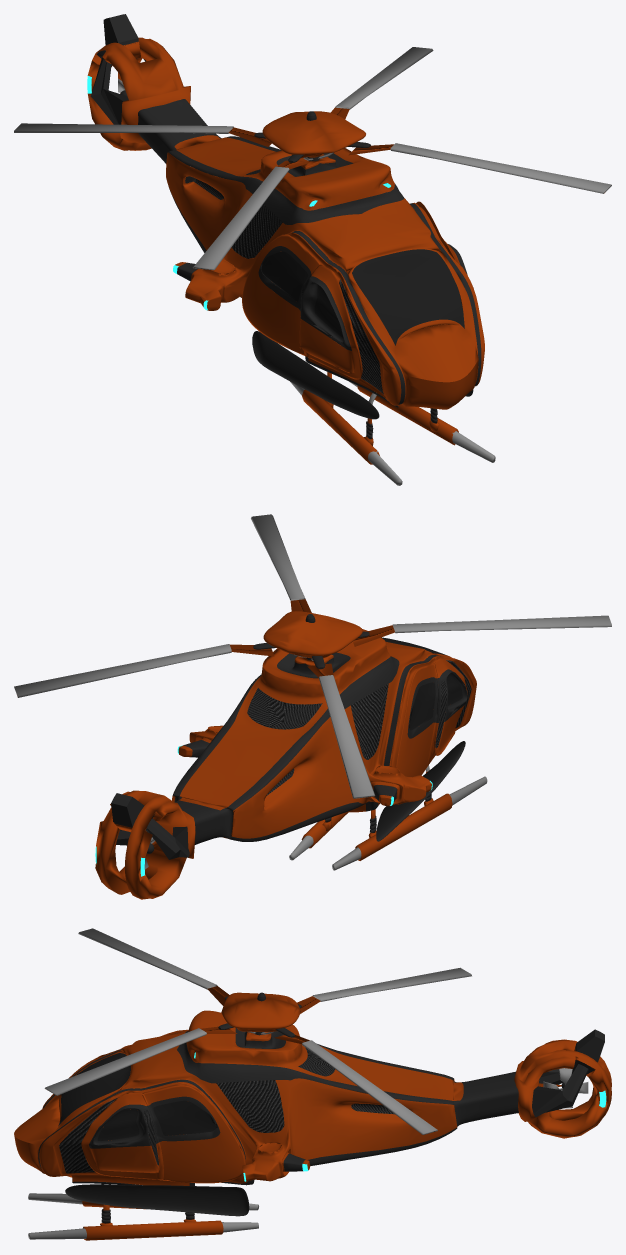
Rendered from animated_helicopter_low.glb.
The picture shows the model from 3 angles, top to bottom: view 1: azimuth 30°, elevation 25°; view 2: azimuth 150°, elevation 25°; view 3: azimuth 270°, elevation 25°; orthographic projection. The views are drawn at different scales.
Visible parts, largest first — view 1: chasis_6, main_rotor__0, rear stabolizer_2, doors.001_11, doors.003_13, landing_gear_5, fin_10; view 2: chasis_6, main_rotor__0, rear stabolizer_2, doors.001_11, landing_gear_5, doors.003_13, fin_10; view 3: chasis_6, main_rotor__0, doors.005_15, rear stabolizer_2, doors.004_14, landing_gear_5, fin_10.
Boxes of the visible parts, <box> form: chasis_6: <box>138,99,484,419</box>; main_rotor__0: <box>14,47,611,270</box>; rear stabolizer_2: <box>87,37,190,150</box>; doors.001_11: <box>242,234,320,355</box>; doors.003_13: <box>299,265,362,379</box>; landing_gear_5: <box>290,372,495,485</box>; fin_10: <box>90,14,145,124</box>; chasis_6: <box>172,611,476,844</box>; main_rotor__0: <box>14,514,611,798</box>; rear stabolizer_2: <box>95,790,195,899</box>; doors.001_11: <box>396,663,438,776</box>; landing_gear_5: <box>289,765,487,870</box>; doors.003_13: <box>428,658,467,764</box>; fin_10: <box>111,793,189,859</box>; chasis_6: <box>14,992,518,1216</box>; main_rotor__0: <box>44,928,471,1134</box>; doors.005_15: <box>143,1085,245,1183</box>; rear stabolizer_2: <box>514,1039,611,1138</box>; doors.004_14: <box>81,1092,159,1179</box>; landing_gear_5: <box>28,1183,258,1240</box>; fin_10: <box>532,1029,604,1117</box>.
Bounding box in the file's own units: 6.24 × 3.69 × 8.7.
8 materials, 1 textured.
